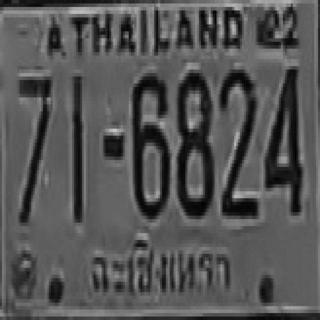N01: (71, 71, 83, 221)
N02: (218, 65, 256, 214)
N04: (264, 63, 300, 212)
N06: (131, 70, 168, 216)
N07: (18, 73, 51, 222)
N08: (176, 70, 213, 216)
P07: (86, 234, 236, 304)
